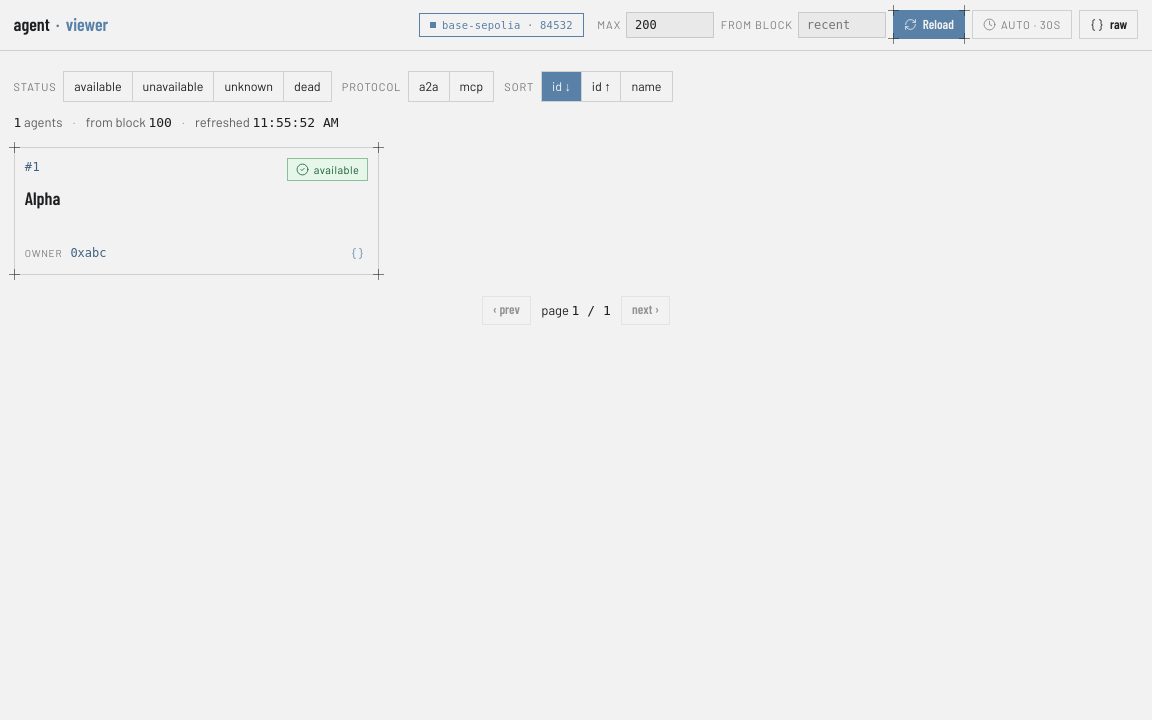
Test case: App › card raw button opens raw JSON, not the detail dialog
Expected: the text "Alpha" is shown, [25,187,60,209]
Click the button named "View raw JSON for agent 1" at [358, 254], box [347,243,368,264]
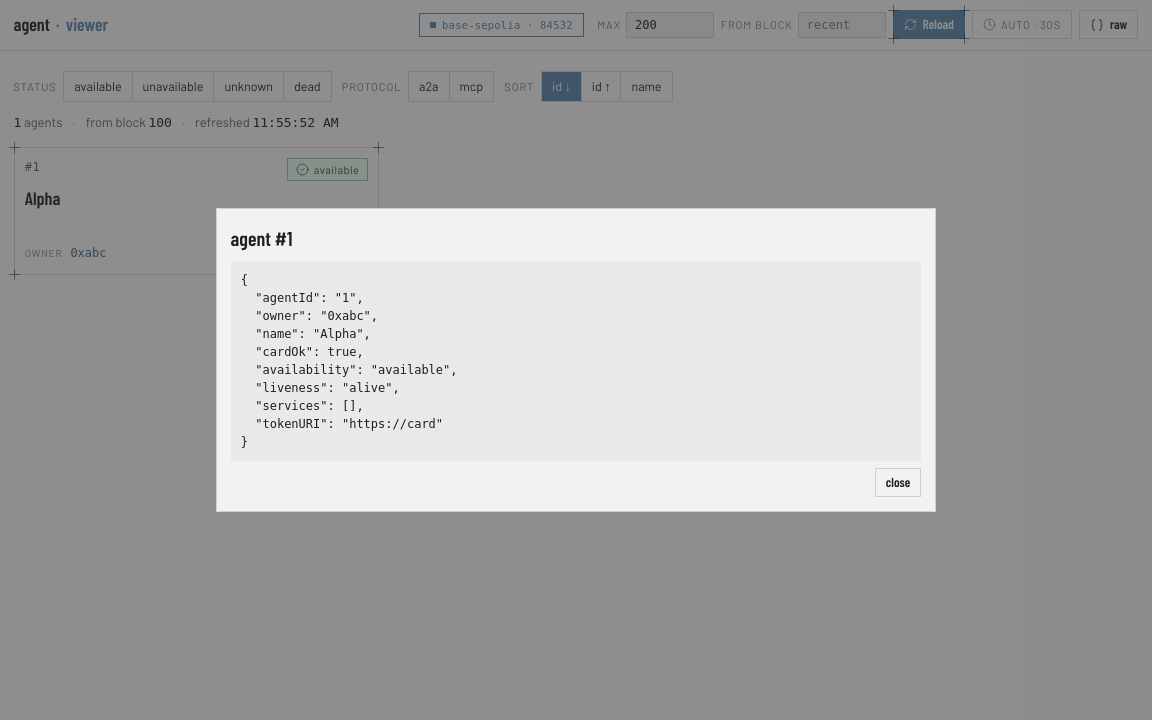
Now the dialog "agent #1" shows "\"agentId\": \"1\"", box [241,273,458,449]
